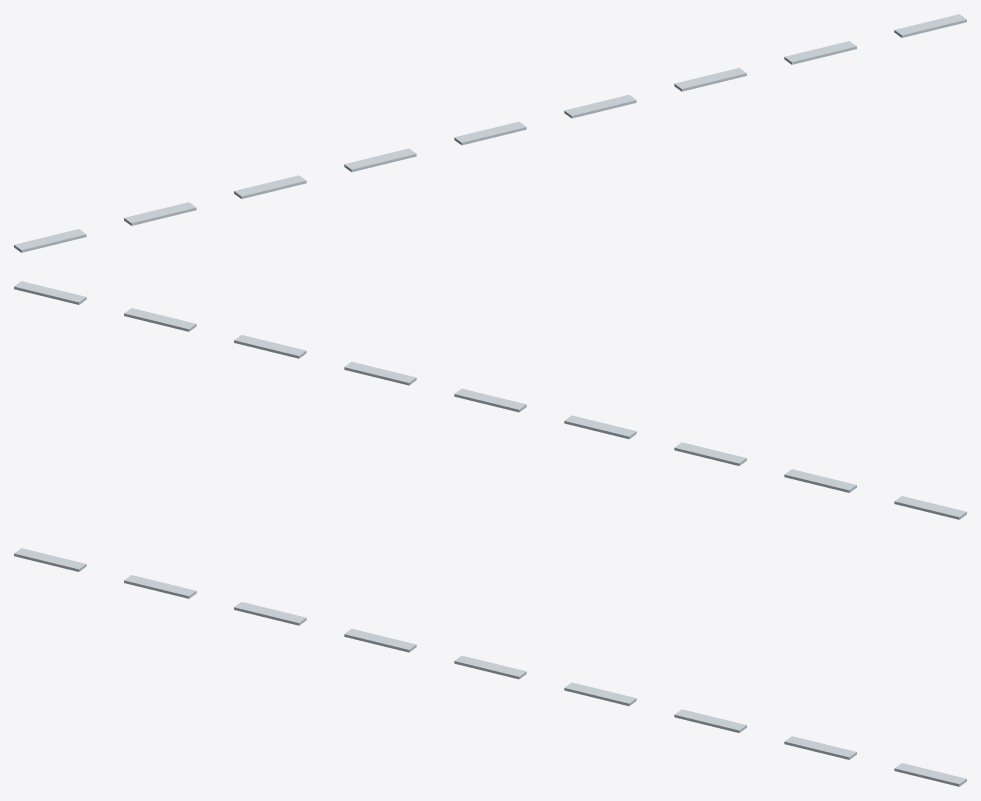
Rendered from 206_L113_StatusSilkscreen_2.obj.
3 renders of one model, top to bottom at view 1: azimuth 30°, elevation 25°; view 2: azimuth 150°, elevation 25°; view 3: azimuth 330°, elevation 25°, orthographic.
Visible parts, largest first — view 1: Part0000__PSMAT__Silkscreen_White, Part0008__PSMAT__Silkscreen_White, Part0003__PSMAT__Silkscreen_White, Part0005__PSMAT__Silkscreen_White, Part0002__PSMAT__Silkscreen_White, Part0006__PSMAT__Silkscreen_White, Part0001__PSMAT__Silkscreen_White, Part0004__PSMAT__Silkscreen_White, Part0007__PSMAT__Silkscreen_White; view 2: Part0000__PSMAT__Silkscreen_White, Part0008__PSMAT__Silkscreen_White, Part0003__PSMAT__Silkscreen_White, Part0005__PSMAT__Silkscreen_White, Part0002__PSMAT__Silkscreen_White, Part0006__PSMAT__Silkscreen_White, Part0001__PSMAT__Silkscreen_White, Part0004__PSMAT__Silkscreen_White, Part0007__PSMAT__Silkscreen_White; view 3: Part0000__PSMAT__Silkscreen_White, Part0008__PSMAT__Silkscreen_White, Part0003__PSMAT__Silkscreen_White, Part0005__PSMAT__Silkscreen_White, Part0002__PSMAT__Silkscreen_White, Part0006__PSMAT__Silkscreen_White, Part0001__PSMAT__Silkscreen_White, Part0004__PSMAT__Silkscreen_White, Part0007__PSMAT__Silkscreen_White.
Boxes of the visible parts, bbox=[...] form: Part0000__PSMAT__Silkscreen_White: bbox=[14, 229, 86, 252]; Part0008__PSMAT__Silkscreen_White: bbox=[894, 14, 966, 37]; Part0003__PSMAT__Silkscreen_White: bbox=[344, 148, 416, 172]; Part0005__PSMAT__Silkscreen_White: bbox=[564, 94, 636, 118]; Part0002__PSMAT__Silkscreen_White: bbox=[234, 175, 306, 198]; Part0006__PSMAT__Silkscreen_White: bbox=[674, 68, 746, 91]; Part0001__PSMAT__Silkscreen_White: bbox=[124, 202, 196, 225]; Part0004__PSMAT__Silkscreen_White: bbox=[454, 121, 526, 145]; Part0007__PSMAT__Silkscreen_White: bbox=[784, 41, 856, 64]; Part0000__PSMAT__Silkscreen_White: bbox=[894, 496, 966, 519]; Part0008__PSMAT__Silkscreen_White: bbox=[14, 281, 86, 304]; Part0003__PSMAT__Silkscreen_White: bbox=[564, 415, 636, 439]; Part0005__PSMAT__Silkscreen_White: bbox=[344, 361, 416, 385]; Part0002__PSMAT__Silkscreen_White: bbox=[674, 442, 746, 465]; Part0006__PSMAT__Silkscreen_White: bbox=[234, 335, 306, 358]; Part0001__PSMAT__Silkscreen_White: bbox=[784, 469, 856, 492]; Part0004__PSMAT__Silkscreen_White: bbox=[454, 388, 526, 412]; Part0007__PSMAT__Silkscreen_White: bbox=[124, 308, 196, 331]; Part0000__PSMAT__Silkscreen_White: bbox=[14, 548, 86, 571]; Part0008__PSMAT__Silkscreen_White: bbox=[894, 763, 966, 786]; Part0003__PSMAT__Silkscreen_White: bbox=[344, 628, 416, 652]; Part0005__PSMAT__Silkscreen_White: bbox=[564, 682, 636, 706]; Part0002__PSMAT__Silkscreen_White: bbox=[234, 602, 306, 625]; Part0006__PSMAT__Silkscreen_White: bbox=[674, 709, 746, 732]; Part0001__PSMAT__Silkscreen_White: bbox=[124, 575, 196, 598]; Part0004__PSMAT__Silkscreen_White: bbox=[454, 655, 526, 679]; Part0007__PSMAT__Silkscreen_White: bbox=[784, 736, 856, 759].
Bounding box in the file's own units: 0.0189 × 5e-05 × 0.00026.
1 material, 1 textured.
